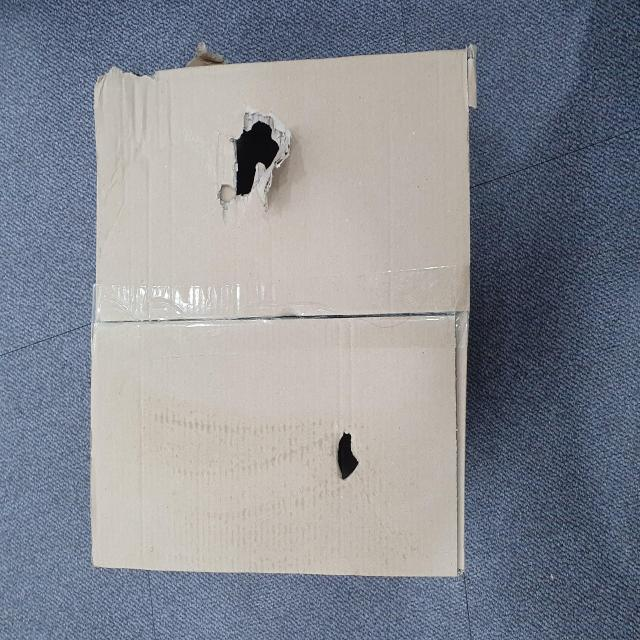damaged: (231, 486, 281, 552), (61, 618, 129, 640)
